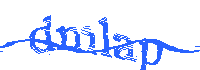a: (112, 32, 137, 61)
d: (29, 15, 55, 54)
l: (95, 15, 112, 58)
m: (56, 25, 96, 55)
p: (139, 38, 162, 70)
